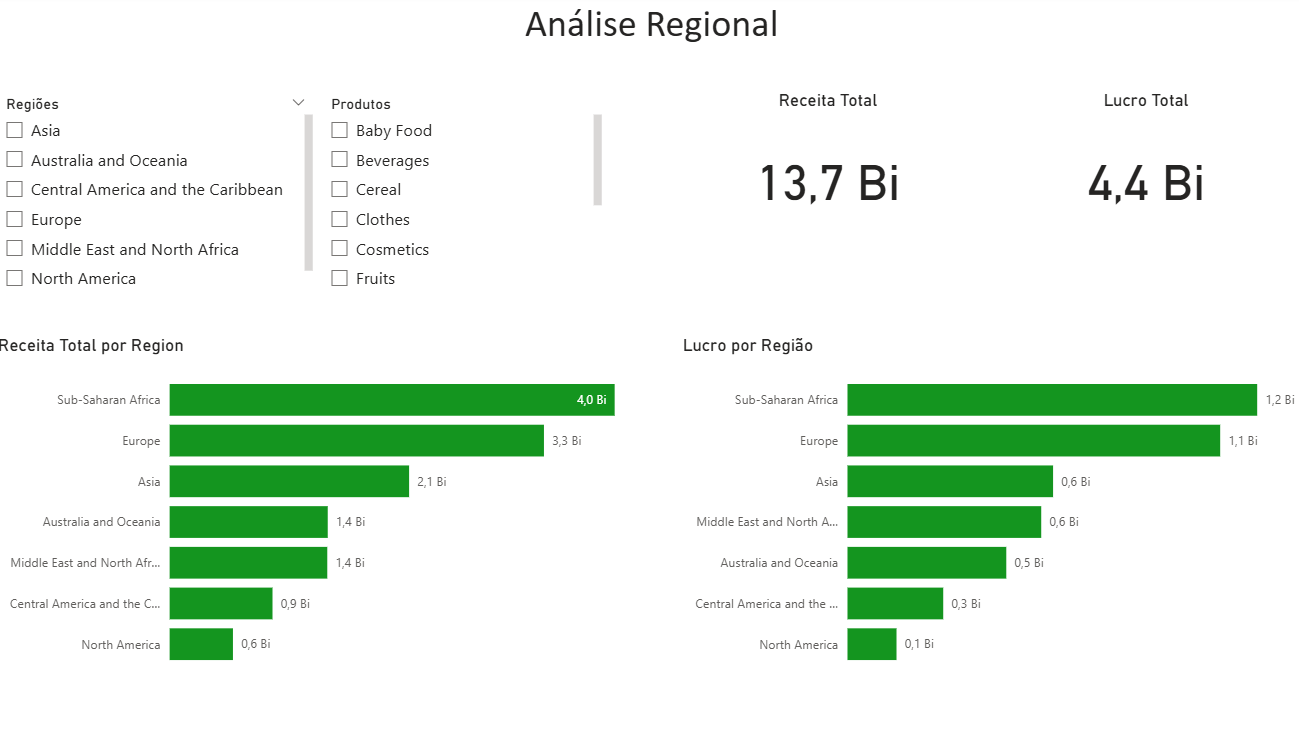

This screenshot's page, from the dashboard's own definition file:
{"tool":"powerbi","page":{"name":"Análise Regional","canvas":[1280,720],"ordinal":1},"visuals":[{"type":"textbox","box":[0,0,1280.3,63.6],"z":0},{"type":"card","title":"Receita Total","fields":{"Values":["100 Sales Records.Receita Total"]},"box":[682.3,92.9,269,150.4],"z":1000},{"type":"card","title":"Lucro Total","fields":{"Values":["100 Sales Records.Lucro Total"]},"box":[994.2,92.9,267.8,150.4],"z":2000},{"type":"barChart","fields":{"Y":["100 Sales Records.Receita Total"],"Category":["100 Sales Records.Region"]},"box":[0,332.6,639.5,339.9],"z":3000},{"type":"barChart","title":"Lucro por Região","fields":{"Y":["100 Sales Records.Lucro Total"],"Category":["100 Sales Records.Region"]},"box":[670.1,332.6,610.2,339.9],"z":4000},{"type":"slicer","fields":{"Values":["100 Sales Records.Region"]},"box":[0,92.9,317.9,205.4],"z":5000},{"type":"slicer","fields":{"Values":["100 Sales Records.Item Type"]},"box":[317.9,92.9,282.5,205.4],"z":7000}]}

Visuals, with their boxes in screenshot pixels (x1, y1, x2, y2), scaled from the page's 1280x720 canvas onto the 1299x731 screenshot:
textbox: box=[0, 0, 1298, 65]
"Receita Total" card: box=[692, 94, 965, 247]
"Lucro Total" card: box=[1009, 94, 1281, 247]
barChart - 100 Sales Records.Receita Total x 100 Sales Records.Region: box=[0, 338, 649, 683]
"Lucro por Região" barChart: box=[680, 338, 1298, 683]
slicer - 100 Sales Records.Region: box=[0, 94, 323, 303]
slicer - 100 Sales Records.Item Type: box=[323, 94, 609, 303]
